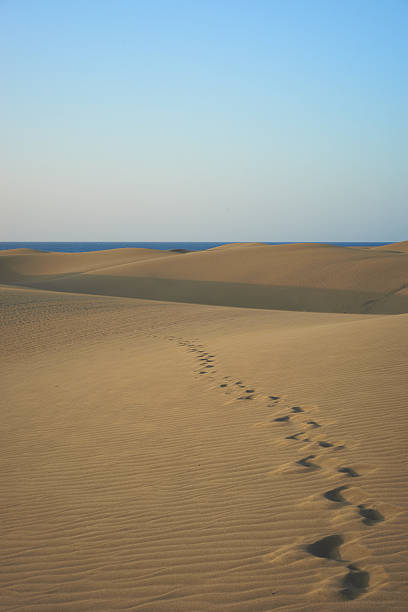human_foot_print: (273, 405, 344, 456), (306, 534, 346, 562), (341, 564, 369, 599), (357, 504, 383, 525), (323, 485, 348, 503), (296, 454, 320, 469)
